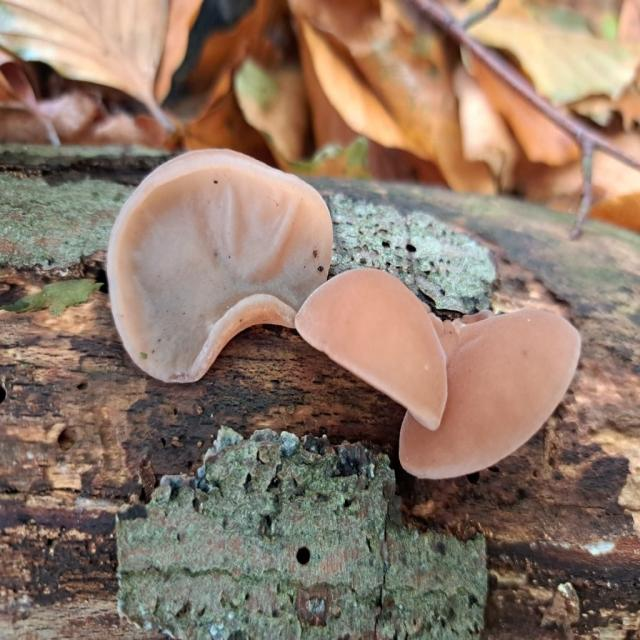Fase Muda: (105, 146, 334, 387), (396, 309, 582, 483), (294, 266, 452, 433)
